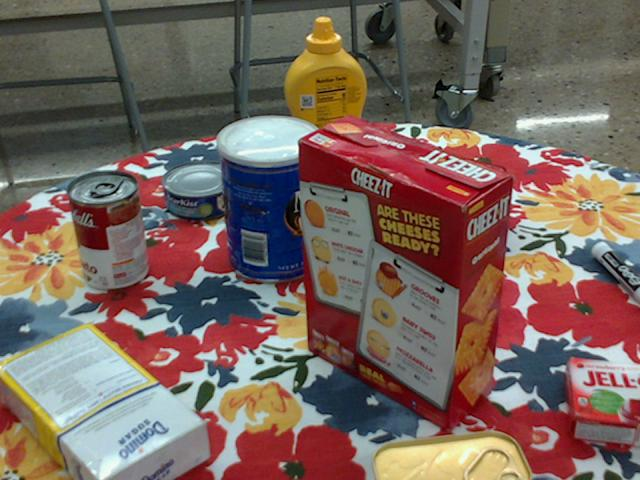cracker_box: (297, 117, 511, 434)
gelatin_box: (564, 357, 639, 443)
large_marker: (591, 239, 639, 300)
master_chef_can: (216, 115, 322, 283)
mug: (415, 146, 506, 238)
mustard_bottle: (283, 18, 367, 183)
potted_meat_can: (370, 431, 531, 479)
sugar_box: (0, 326, 209, 479)
tomato_soup_can: (67, 170, 147, 291)
tuna_fish_can: (163, 160, 238, 219)
